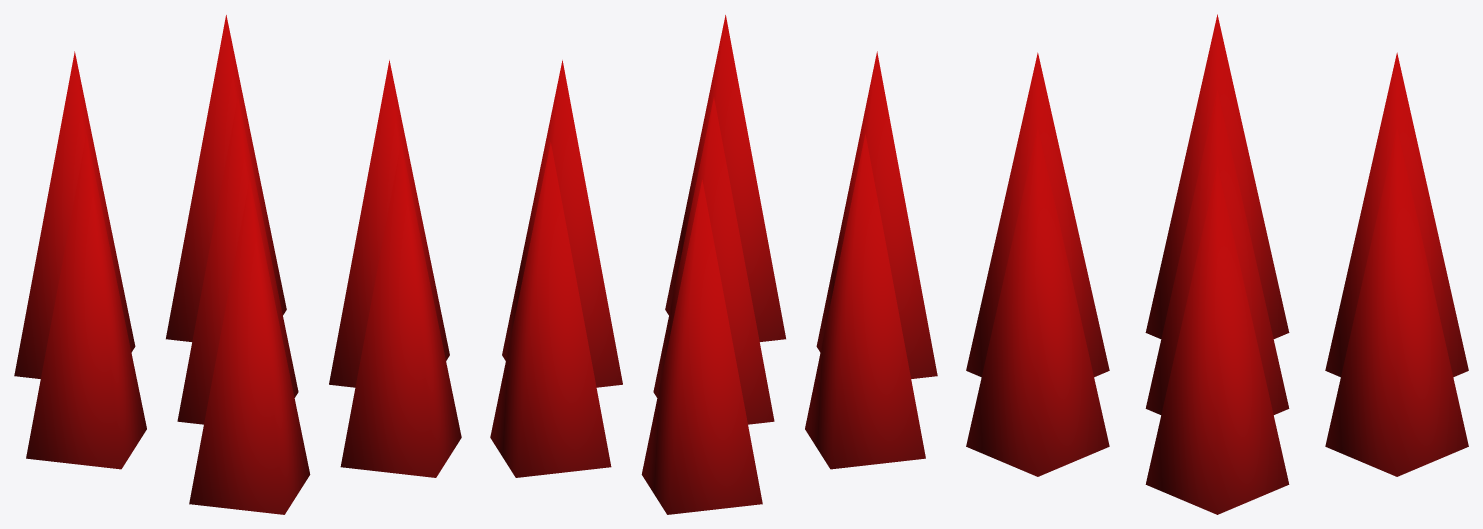
The model's file is Spikes.glb.
The picture shows the model from 3 angles, left to right: view 1: azimuth 30°, elevation 25°; view 2: azimuth 150°, elevation 25°; view 3: azimuth 270°, elevation 25°; orthographic projection. The views are drawn at different scales.
Parts seen in each view (by area): view 1: Spikes; view 2: Spikes; view 3: Spikes.
Boxes of the visible parts, left/top/right/bottom form: Spikes: left=14, top=15, right=461, bottom=514; Spikes: left=490, top=15, right=937, bottom=514; Spikes: left=966, top=14, right=1468, bottom=514.
Bounding box in the file's own units: 0.7 × 0.4896 × 0.7.
